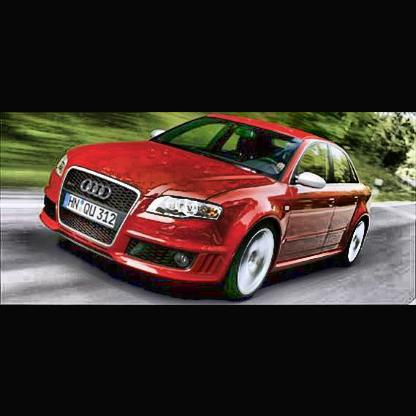Audi S4 Sedan 2007: (38, 115, 372, 298)
